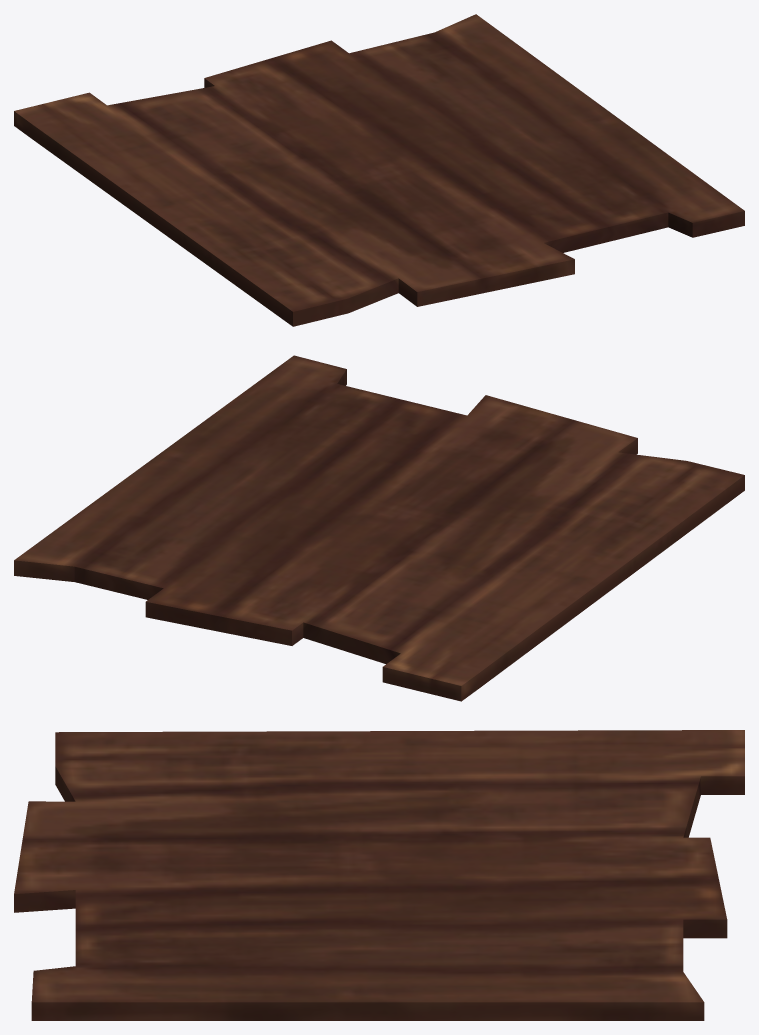
File: Stage_01_01_MuPian.FBX
The picture shows the model from 3 angles, top to bottom: view 1: azimuth 30°, elevation 25°; view 2: azimuth 150°, elevation 25°; view 3: azimuth 270°, elevation 25°; orthographic projection. The views are drawn at different scales.
Visible parts, largest first — view 1: Stage_01_01_MuPian; view 2: Stage_01_01_MuPian; view 3: Stage_01_01_MuPian.
Part boxes in pixels (x1,y1,x2,y2): Stage_01_01_MuPian: (14,14,744,326); Stage_01_01_MuPian: (14,355,744,701); Stage_01_01_MuPian: (14,730,744,1020).
Size of the model in its own units: 209 by 6.68 by 238.
